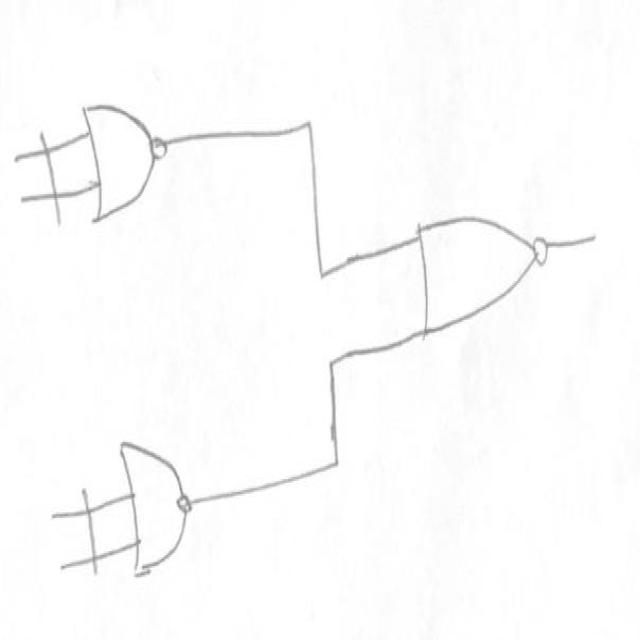NOR: (401, 188, 558, 354)
XNOR: (24, 90, 184, 245), (76, 433, 210, 602)
